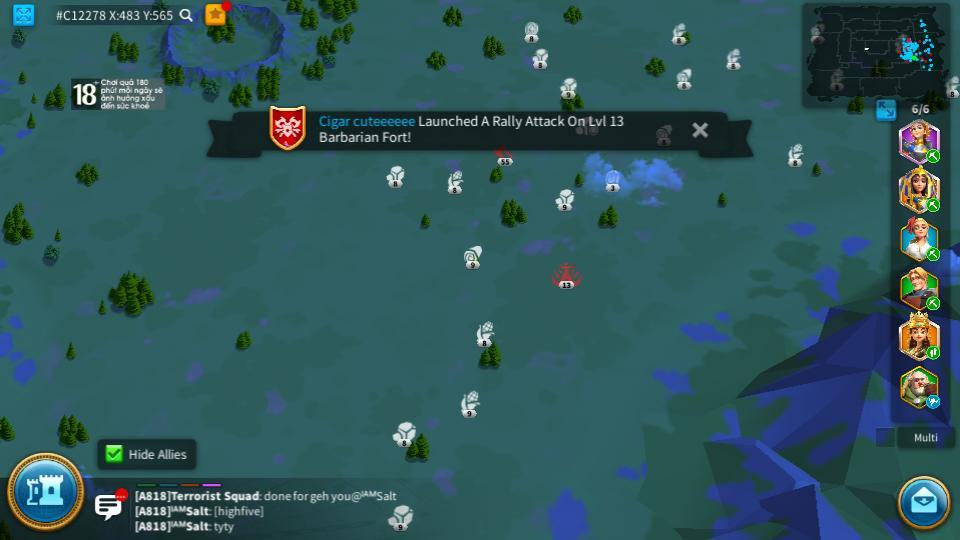gem-z-out: (523, 21, 541, 40)
march_idle: (925, 394, 942, 408)
march_marching: (925, 197, 941, 212), (925, 345, 941, 359), (925, 150, 941, 162), (925, 297, 942, 308)
